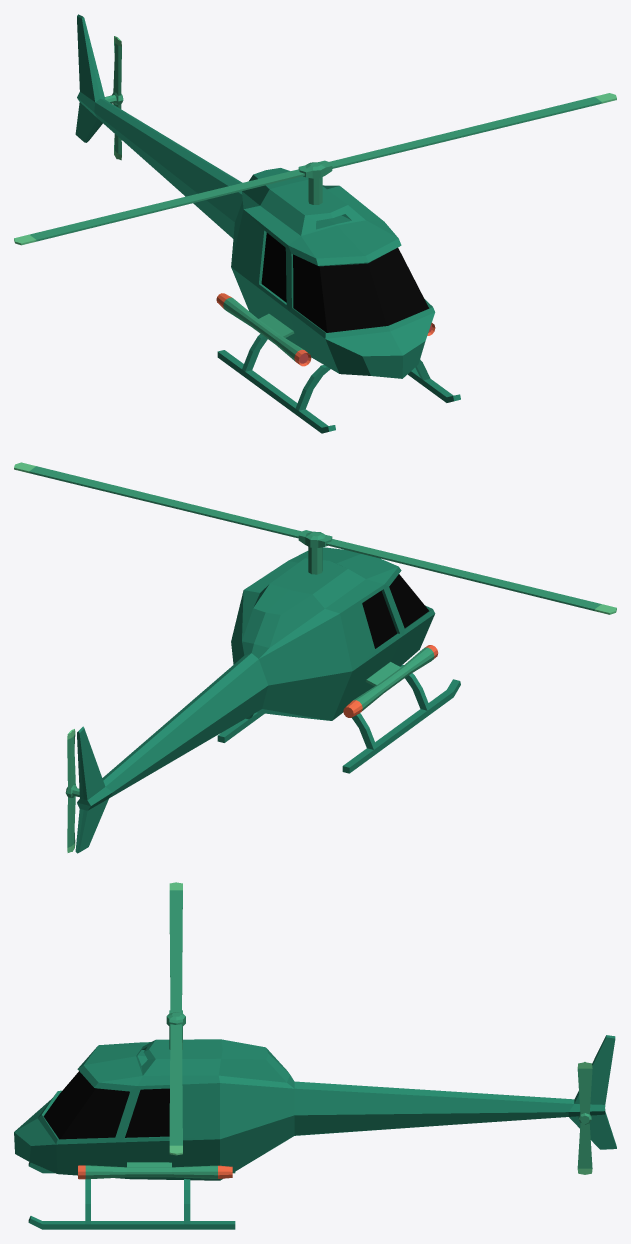
Rendered from Helicopter.fbx.
3 renders of one model, top to bottom at view 1: azimuth 30°, elevation 25°; view 2: azimuth 150°, elevation 25°; view 3: azimuth 270°, elevation 25°, orthographic. The views are drawn at different scales.
Visible parts, largest first — view 1: Helicopter, blades, missile_launchers, tail_rotor; view 2: Helicopter, blades, missile_launchers, tail_rotor; view 3: Helicopter, blades, missile_launchers, tail_rotor.
Boxes of the visible parts, bbox=[...] form: Helicopter: bbox=[75, 14, 460, 433]; blades: bbox=[14, 93, 616, 245]; missile_launchers: bbox=[216, 293, 435, 366]; tail_rotor: bbox=[105, 36, 123, 160]; Helicopter: bbox=[75, 547, 460, 853]; blades: bbox=[14, 462, 616, 614]; missile_launchers: bbox=[343, 645, 438, 717]; tail_rotor: bbox=[65, 729, 79, 852]; Helicopter: bbox=[14, 1035, 616, 1229]; blades: bbox=[166, 882, 185, 1155]; missile_launchers: bbox=[78, 1162, 232, 1179]; tail_rotor: bbox=[577, 1062, 592, 1174].
Size of the model in its own units: 1149 by 366 by 1079.
1 material, 1 textured.
